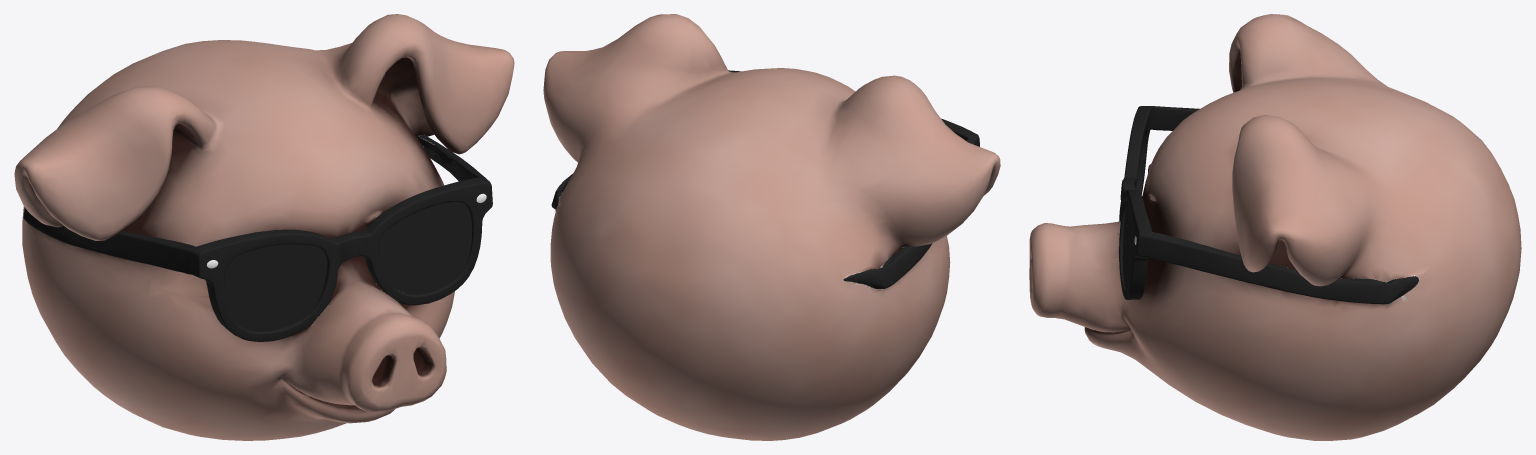
File: slypork-pig-low.glb
The picture shows the model from 3 angles, left to right: view 1: azimuth 30°, elevation 25°; view 2: azimuth 150°, elevation 25°; view 3: azimuth 270°, elevation 25°; orthographic projection. The views are drawn at different scales.
Parts seen in each view (by area): view 1: Pig, Pig.001; view 2: Pig; view 3: Pig, Pig.001.
Boxes of the visible parts, bbox=[...] form: Pig: bbox=[14, 14, 514, 440]; Pig.001: bbox=[224, 202, 472, 331]; Pig: bbox=[543, 14, 1000, 440]; Pig: bbox=[1029, 14, 1521, 440]; Pig.001: bbox=[1122, 201, 1133, 289].
Size of the model in its own units: 1.9 by 1.47 by 1.84.
